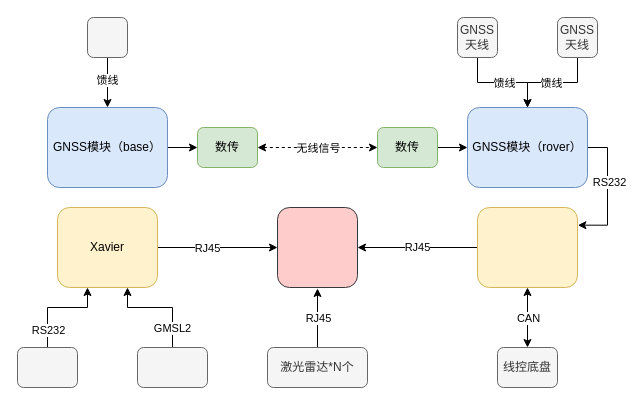
The diagram is 643 pixels wide and 405 high, and some of its shapes have lost their labels. Each missing label, with the centre of its shape:
GNSS天线: (107,37)
IMU: (47,367)
Xavier （NTP server）: (527,247)
交换机: (317,247)
摄像头*N个: (172,367)
